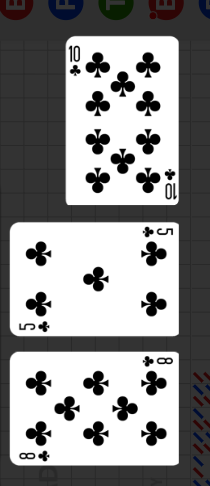10C: (163, 166, 178, 201), (68, 44, 83, 79)
8C: (140, 355, 175, 369)
